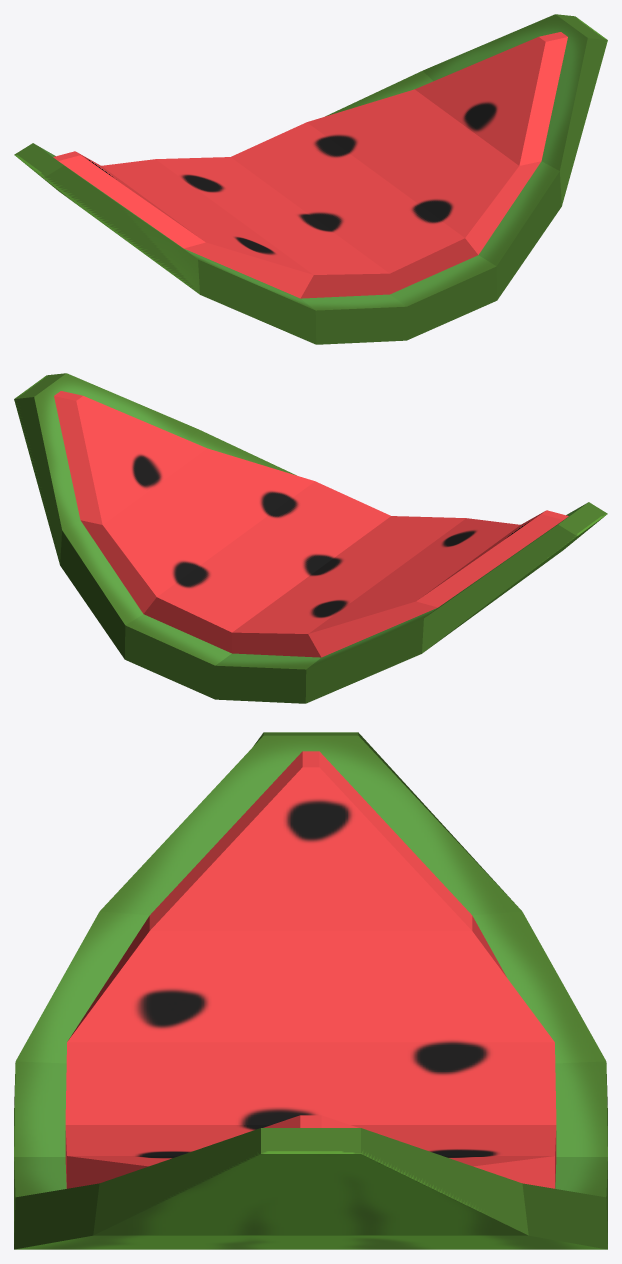
The model's file is watermelon.fbx.
3 renders of one model, top to bottom at view 1: azimuth 30°, elevation 25°; view 2: azimuth 150°, elevation 25°; view 3: azimuth 270°, elevation 25°, orthographic. The views are drawn at different scales.
Parts seen in each view (by area): view 1: watermelon; view 2: watermelon; view 3: watermelon.
Part boxes in pixels (left/top/right/bottom): watermelon: left=14, top=14, right=607, bottom=344; watermelon: left=14, top=373, right=607, bottom=703; watermelon: left=14, top=732, right=607, bottom=1249.
Size of the model in its own units: 246 by 75.42 by 146.
